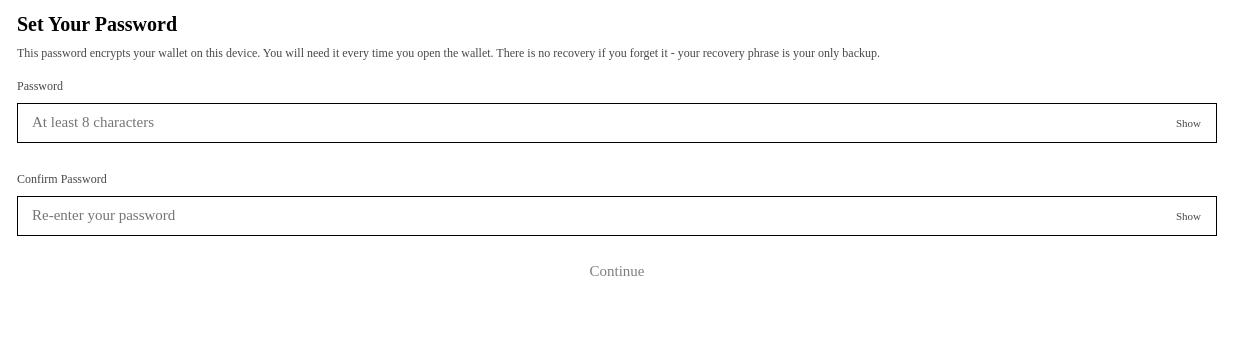
PasswordSetupScreen (B5.1) › rejects passwords shorter than minLength
Type "short" into the password field labelled "Password" at (617, 123), box x1=17 y1=103 x2=1217 y2=143
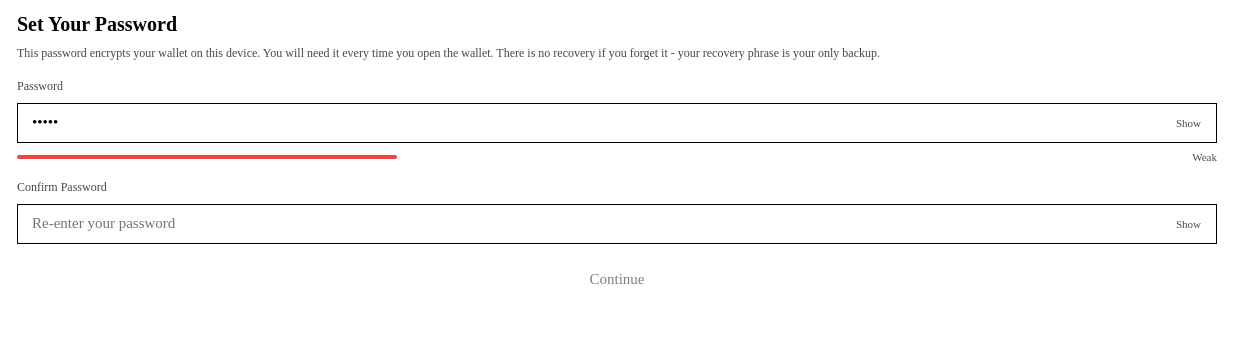
Type "short" into the password field labelled "Confirm Password" at (617, 224), box x1=17 y1=204 x2=1217 y2=244
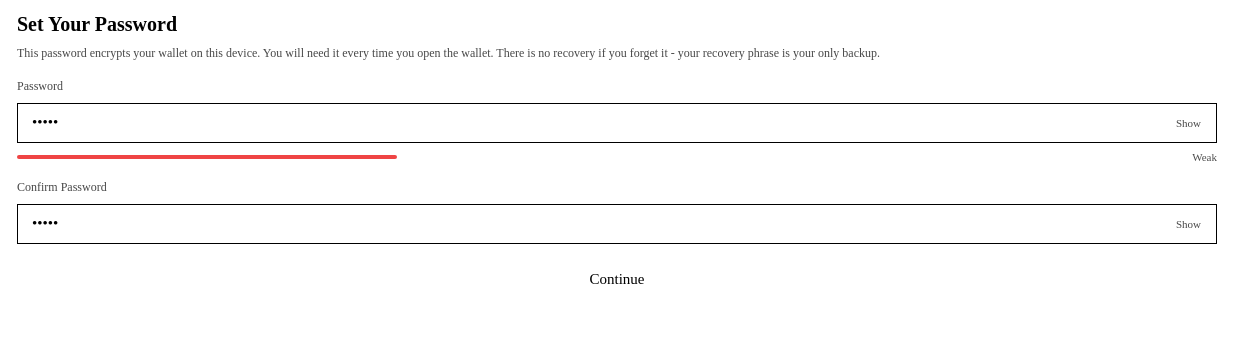
Click the button "Continue" at (617, 280), box x1=17 y1=260 x2=1217 y2=300
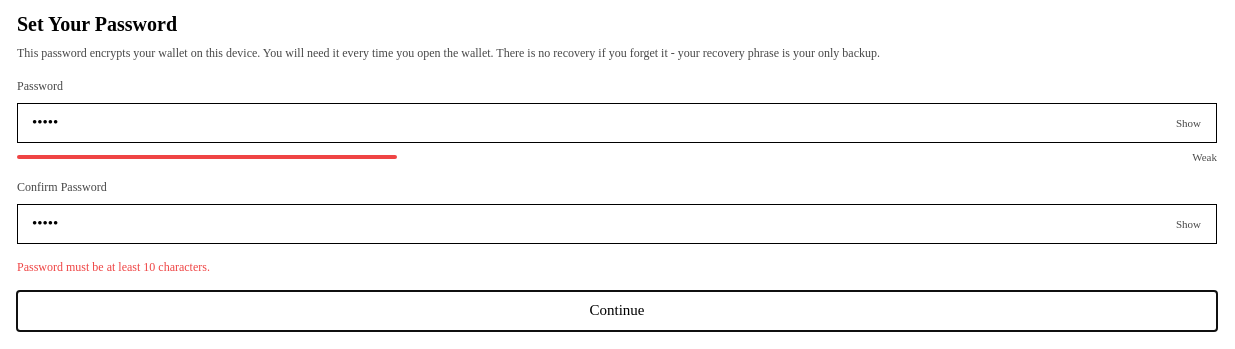
Check: the message "Password must be at least 10 characters." is shown, box x1=17 y1=260 x2=210 y2=274
